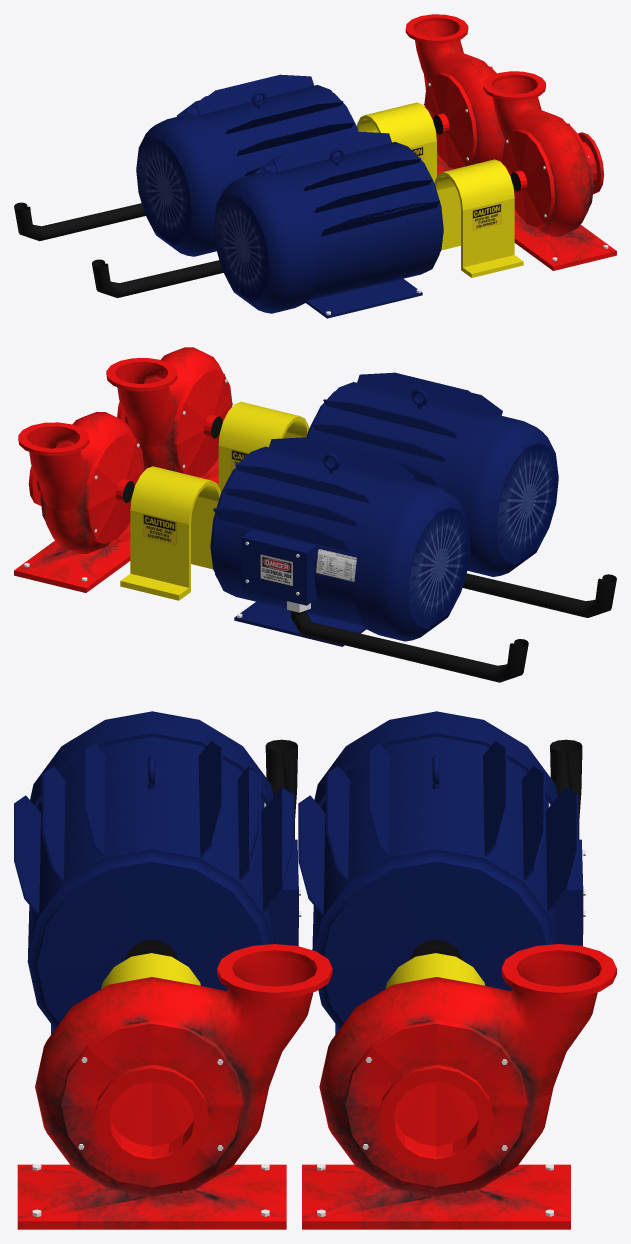
File: MotorsNoShaft.fbx
3 views of the same model, one above another, from view 1: azimuth 30°, elevation 25°; view 2: azimuth 150°, elevation 25°; view 3: azimuth 270°, elevation 25° (orthographic). The views are drawn at different scales.
Parts seen in each view (by area): view 1: Pump10NoShaft, Pump9NoShaft; view 2: Pump9NoShaft, Pump10NoShaft; view 3: Pump10NoShaft, Pump9NoShaft.
Boxes of the visible parts, x1,y1,x2,y2 form: Pump10NoShaft: [92, 71, 616, 318]; Pump9NoShaft: [14, 14, 503, 256]; Pump9NoShaft: [14, 412, 528, 682]; Pump10NoShaft: [106, 347, 616, 617]; Pump10NoShaft: [14, 711, 332, 1229]; Pump9NoShaft: [298, 711, 616, 1229].
Size of the model in its own units: 3.61 by 1.06 by 2.24.
